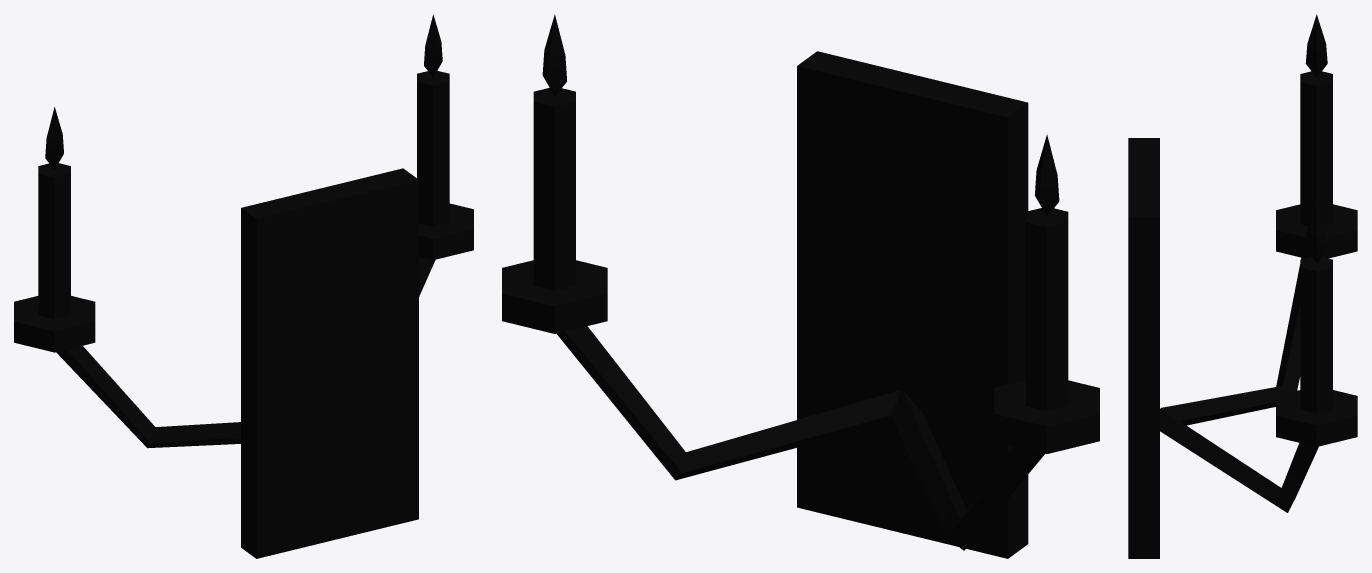
File: SM_sconce_candle.fbx
3 views of the same model, side by side, from view 1: azimuth 30°, elevation 25°; view 2: azimuth 150°, elevation 25°; view 3: azimuth 270°, elevation 25° (orthographic). The views are drawn at different scales.
Parts seen in each view (by area): view 1: sconce_candle; view 2: sconce_candle; view 3: sconce_candle.
Part boxes in pixels (bbox=[...]): sconce_candle: bbox=[14, 14, 473, 558]; sconce_candle: bbox=[502, 14, 1099, 558]; sconce_candle: bbox=[1128, 14, 1357, 558].
Size of the model in its own units: 0.34 by 0.29 by 0.146.
